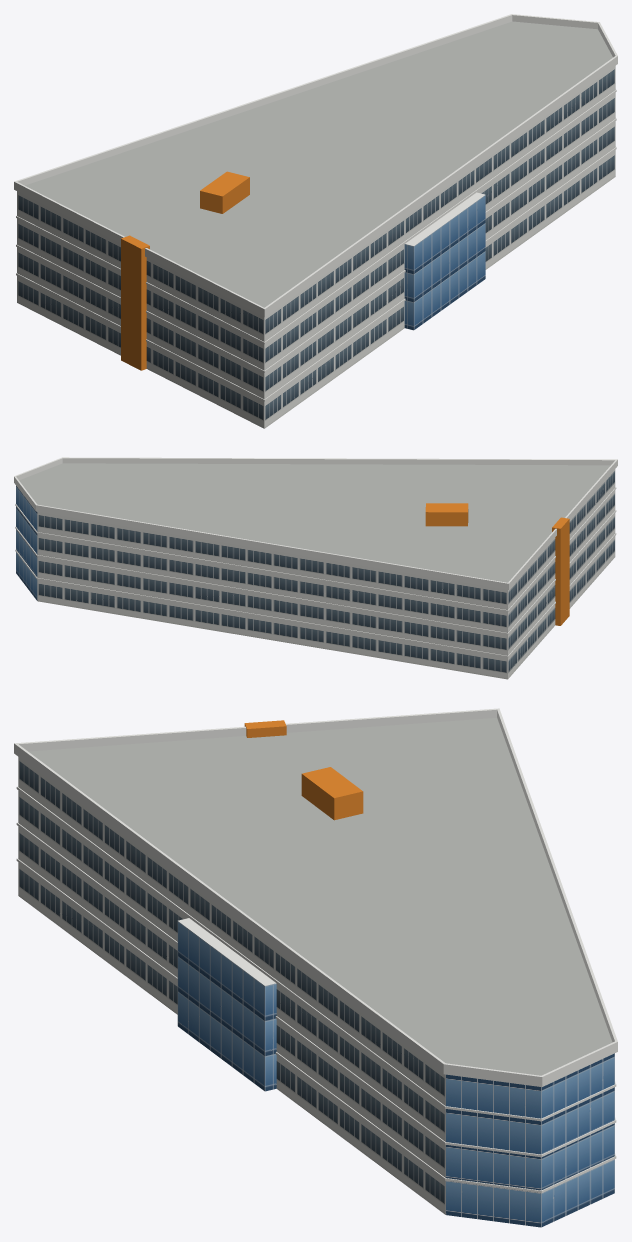
File: zhongyuan_xinshitang.glb
3 views of the same model, one above another, from view 1: azimuth 30°, elevation 25°; view 2: azimuth 150°, elevation 25°; view 3: azimuth 270°, elevation 25° (orthographic). The views are drawn at different scales.
Visible parts, largest first — view 1: 中苑新食堂; view 2: 中苑新食堂; view 3: 中苑新食堂.
Boxes of the visible parts, x1,y1,x2,y2 form: 中苑新食堂: (14, 14, 617, 428); 中苑新食堂: (14, 457, 617, 679); 中苑新食堂: (14, 708, 617, 1227).
Size of the model in its own units: 78.67 by 16.5 by 54.46.
Materials: 5 (2 with a texture image).
